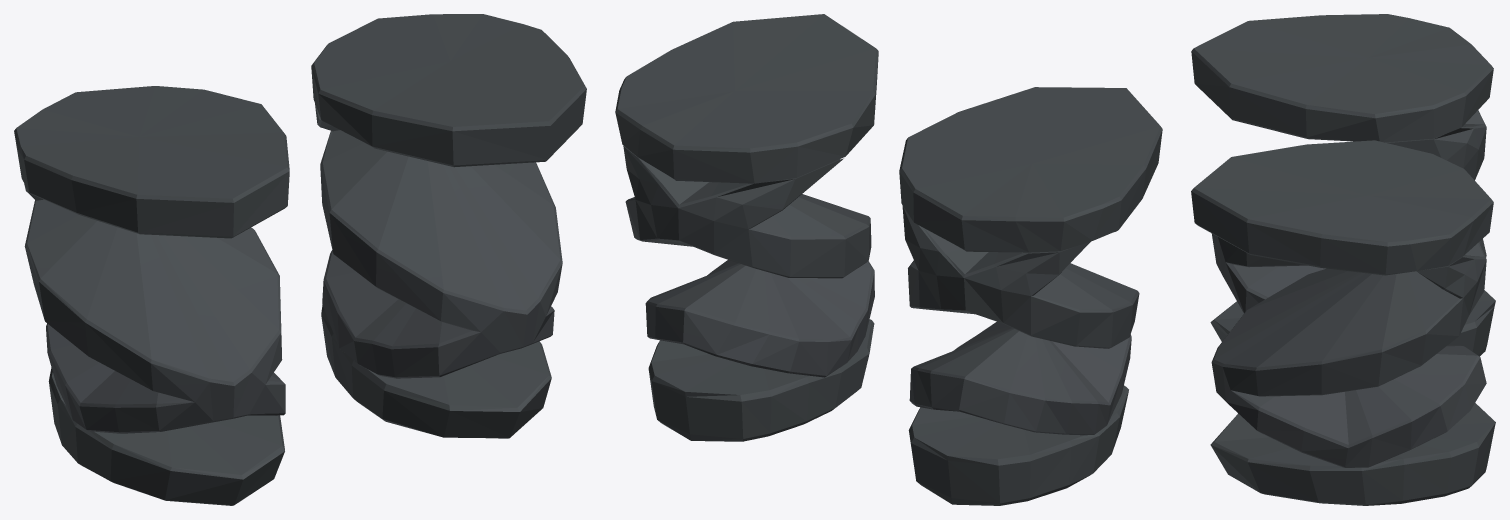
Rendered from NPC_LaborerShoes.glb.
3 renders of one model, left to right at view 1: azimuth 30°, elevation 25°; view 2: azimuth 150°, elevation 25°; view 3: azimuth 270°, elevation 25°, orthographic. The views are drawn at different scales.
Visible parts, largest first — view 1: NPC_LaborerShoes; view 2: NPC_LaborerShoes; view 3: NPC_LaborerShoes.
Boxes of the visible parts, x1=… form: NPC_LaborerShoes: x1=14, y1=14, x2=586, y2=505; NPC_LaborerShoes: x1=615, y1=14, x2=1162, y2=505; NPC_LaborerShoes: x1=1191, y1=14, x2=1495, y2=505.
Bounding box in the file's own units: 3.38 × 2.04 × 1.89.
1 material, 1 textured.
